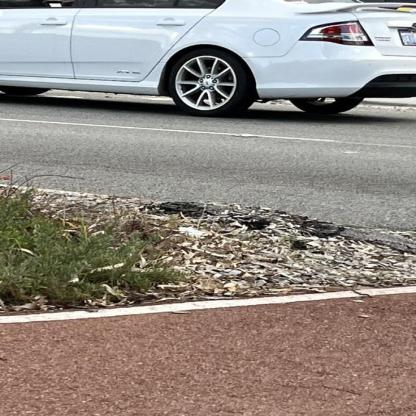Tire: (168, 48, 256, 117)
